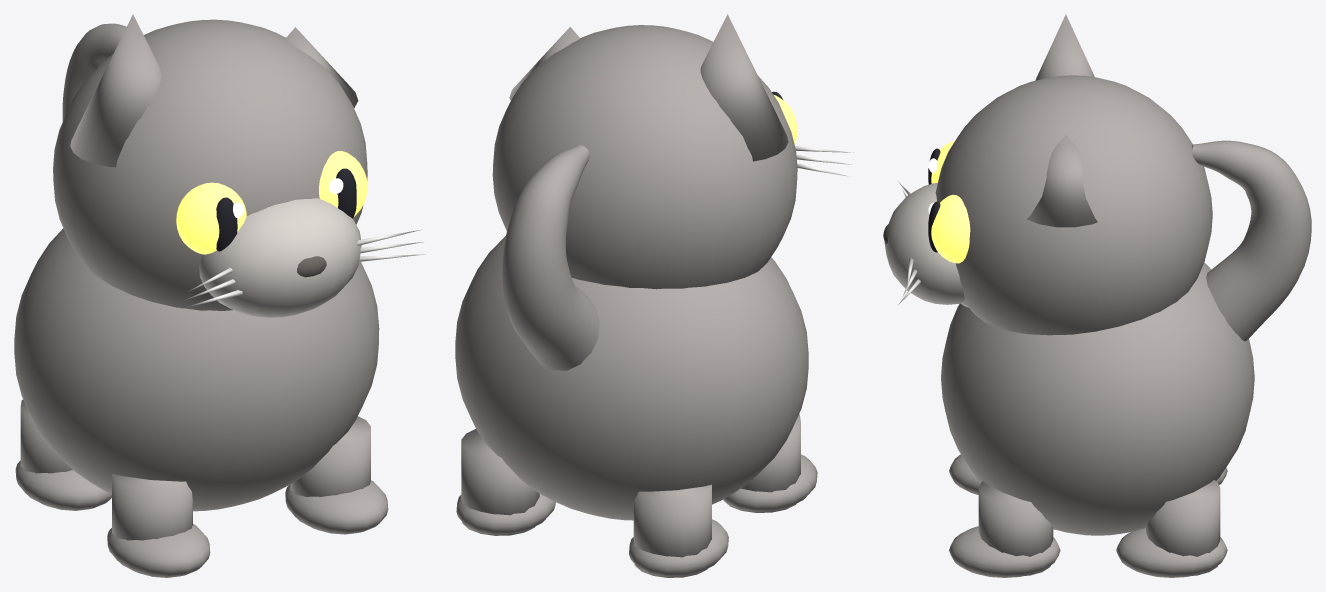
Rendered from alley_street_yowler.glb.
The picture shows the model from 3 angles, left to right: view 1: azimuth 30°, elevation 25°; view 2: azimuth 150°, elevation 25°; view 3: azimuth 270°, elevation 25°; orthographic projection. The views are drawn at different scales.
Parts seen in each view (by area): view 1: alley_street_yowler; view 2: alley_street_yowler; view 3: alley_street_yowler.
Boxes of the visible parts, left/top/right/bottom form: alley_street_yowler: left=14, top=14, right=425, bottom=577; alley_street_yowler: left=455, top=14, right=853, bottom=577; alley_street_yowler: left=883, top=14, right=1311, bottom=577.
Bounding box in the file's own units: 1.1 × 1.71 × 1.38.
